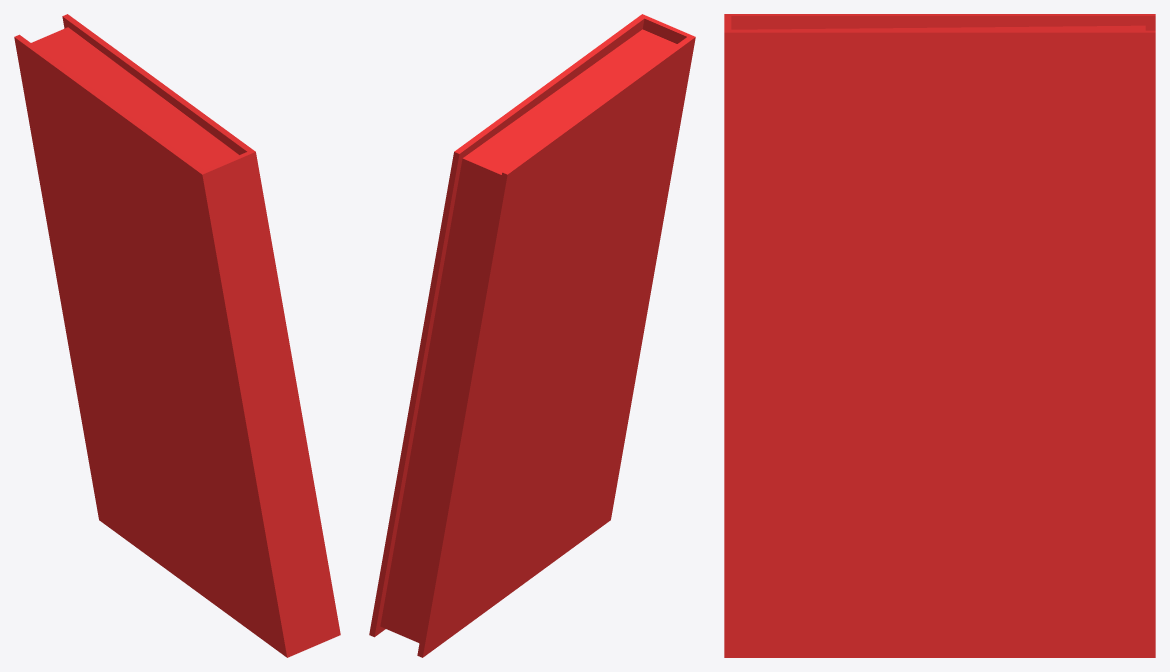
File: Book.fbx
3 renders of one model, left to right at view 1: azimuth 30°, elevation 25°; view 2: azimuth 150°, elevation 25°; view 3: azimuth 270°, elevation 25°, orthographic. The views are drawn at different scales.
Visible parts, largest first — view 1: Book; view 2: Book; view 3: Book.
Part boxes in pixels (x1=…): Book: x1=14, y1=14, x2=340, y2=657; Book: x1=369, y1=14, x2=695, y2=657; Book: x1=724, y1=14, x2=1155, y2=657.
Bounding box in the file's own units: 6.47 × 22.95 × 15.24.
